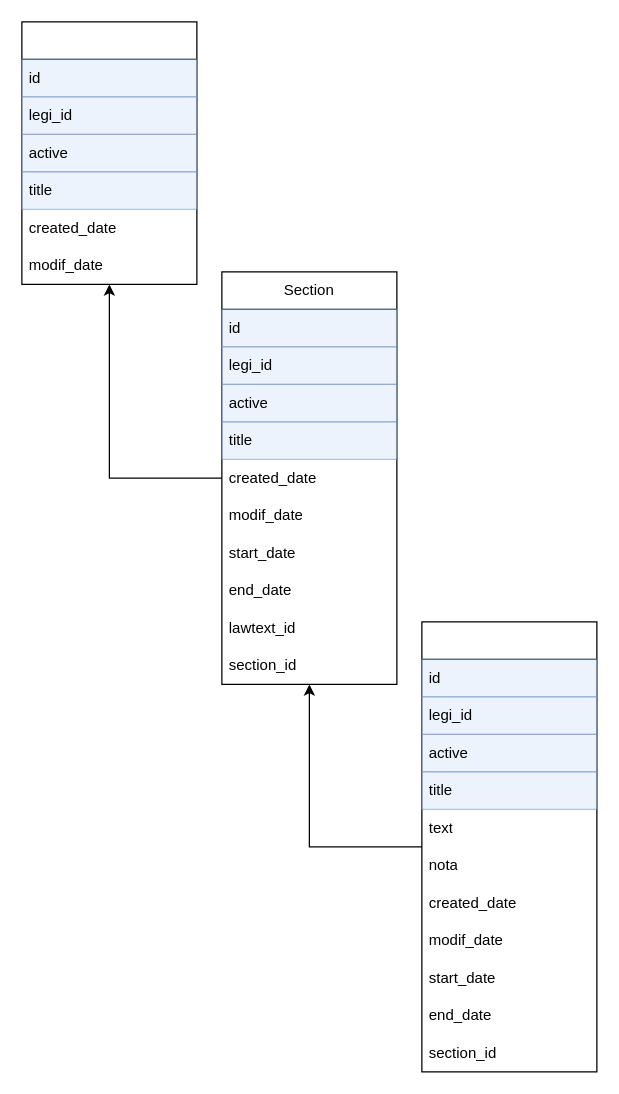
Some shapes in this 619 by 1094 pixel diagram are drawn without their labels. Each missing label, with the box of its shape:
Article: (421, 621, 597, 1072)
LawText: (21, 21, 197, 284)
